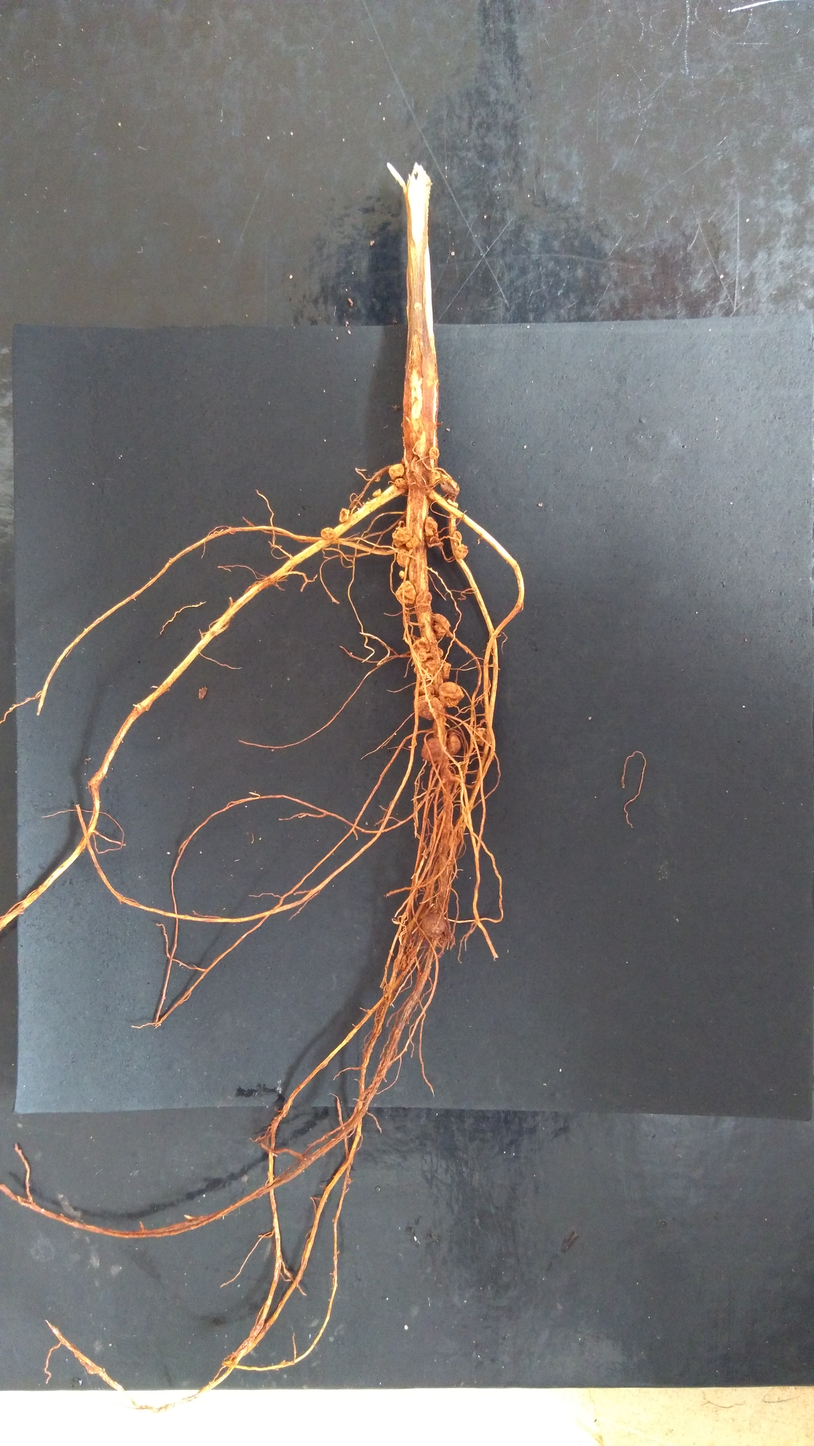nodule: (413, 693, 443, 720), (437, 681, 464, 708), (435, 820, 459, 850), (421, 912, 447, 938), (420, 737, 442, 763), (391, 525, 415, 548), (395, 580, 416, 606), (414, 658, 438, 678), (431, 613, 450, 638), (440, 473, 460, 496), (446, 732, 462, 757), (414, 591, 432, 613), (474, 727, 493, 747), (414, 680, 435, 697), (410, 636, 430, 653), (423, 516, 438, 537), (396, 548, 411, 568), (388, 463, 405, 480), (405, 534, 424, 549), (414, 440, 430, 457), (426, 532, 443, 548), (428, 468, 442, 486), (439, 659, 451, 679), (410, 455, 422, 473), (454, 544, 468, 559), (320, 527, 336, 540), (399, 950, 408, 971), (338, 508, 350, 523), (406, 946, 418, 961), (416, 648, 427, 663), (429, 446, 439, 460), (395, 478, 406, 489), (446, 499, 458, 509), (453, 530, 462, 543), (372, 489, 381, 498), (437, 647, 444, 658), (399, 570, 405, 579), (375, 475, 381, 482)
